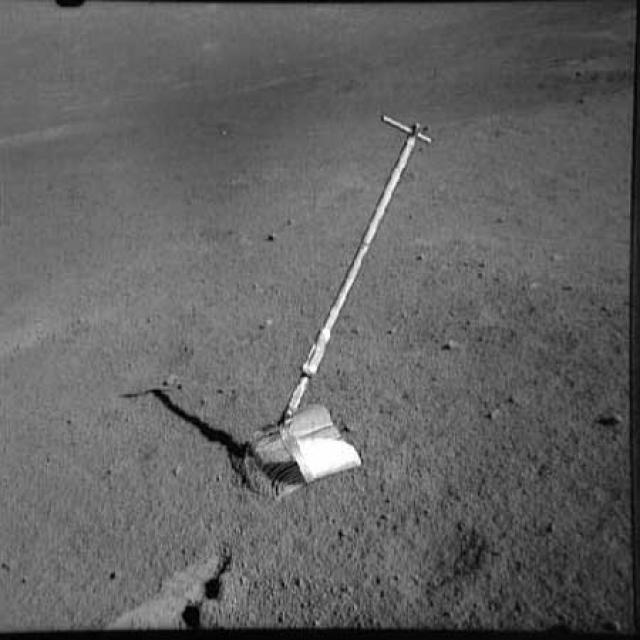artifact: (230, 105, 450, 502)
crater: (80, 532, 246, 638)
